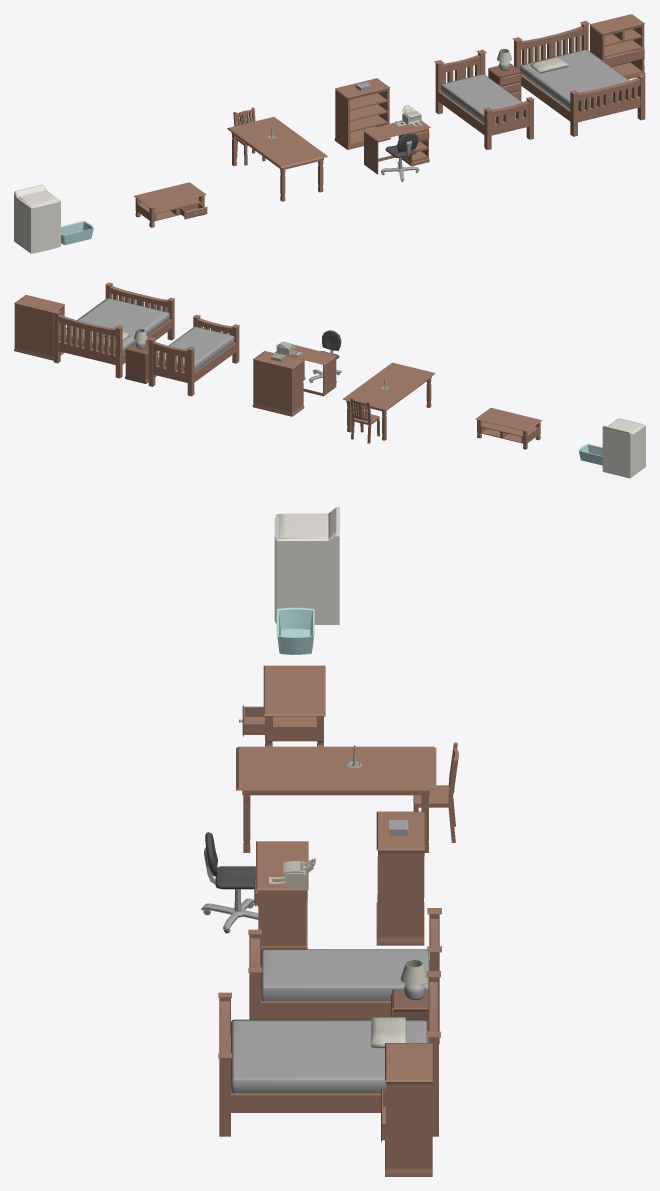
The model's file is bedroom_Cupboard.fbx.
3 views of the same model, one above another, from view 1: azimuth 30°, elevation 25°; view 2: azimuth 150°, elevation 25°; view 3: azimuth 270°, elevation 25° (orthographic). The views are drawn at different scales.
Parts seen in each view (by area): view 1: CZ_QueenBed01, CZ_SingleBed01, CZ_DiningTable01, CZ_QueenMatress01, CZ_Bookshelf01, CZ_WashingMachineBase01, CZ_ChestofDrawers01, CZ_SignleMatress01, CZ_CoffeeTable01, CZ_DeskUnit01, CZ_OfficeChair01, CZ_ClothesBasket01 (+5 smaller); view 2: CZ_QueenBed01, CZ_SingleBed01, CZ_Bookshelf01, CZ_DiningTable01, CZ_ChestofDrawers01, CZ_QueenMatress01, CZ_WashingMachineBase01, CZ_CoffeeTable01, CZ_SignleMatress01, CZ_DeskUnit01, CZ_BSDrawers01, CZ_DiningChair01 (+3 smaller); view 3: CZ_QueenMatress01, CZ_DiningTable01, CZ_SignleMatress01, CZ_ChestofDrawers01, CZ_QueenBed01, CZ_Bookshelf01, CZ_WashingMachineBase01, CZ_DeskUnit01, CZ_CoffeeTable01, CZ_SingleBed01, CZ_OfficeChair01, CZ_ClothesBasket01 (+4 smaller).
Part boxes in pixels (<box>): CZ_QueenBed01: <box>512,21,645,136</box>; CZ_SingleBed01: <box>434,49,534,149</box>; CZ_DiningTable01: <box>227,117,327,201</box>; CZ_QueenMatress01: <box>520,49,637,109</box>; CZ_Bookshelf01: <box>334,78,390,149</box>; CZ_WashingMachineBase01: <box>14,184,60,253</box>; CZ_ChestofDrawers01: <box>589,14,645,79</box>; CZ_SignleMatress01: <box>441,74,523,123</box>; CZ_CoffeeTable01: <box>134,182,206,227</box>; CZ_DeskUnit01: <box>363,121,430,174</box>; CZ_OfficeChair01: <box>380,132,419,181</box>; CZ_ClothesBasket01: <box>61,221,93,245</box>; CZ_QueenBed01: <box>52,282,174,378</box>; CZ_SingleBed01: <box>147,314,239,396</box>; CZ_Bookshelf01: <box>252,351,304,416</box>; CZ_DiningTable01: <box>342,362,435,440</box>; CZ_ChestofDrawers01: <box>14,295,65,360</box>; CZ_QueenMatress01: <box>60,298,169,353</box>; CZ_WashingMachineBase01: <box>602,418,645,478</box>; CZ_CoffeeTable01: <box>475,408,542,449</box>; CZ_SignleMatress01: <box>158,326,234,371</box>; CZ_DeskUnit01: <box>275,345,337,396</box>; CZ_BSDrawers01: <box>125,342,156,383</box>; CZ_DiningChair01: <box>350,397,380,443</box>; CZ_QueenMatress01: <box>231,1019,427,1093</box>; CZ_DiningTable01: <box>236,746,436,852</box>; CZ_SignleMatress01: <box>261,949,428,1001</box>; CZ_ChestofDrawers01: <box>385,1043,432,1176</box>; CZ_QueenBed01: <box>218,971,440,1136</box>; CZ_Bookshelf01: <box>376,811,424,945</box>; CZ_WashingMachineBase01: <box>274,507,339,624</box>; CZ_DeskUnit01: <box>256,841,308,950</box>; CZ_CoffeeTable01: <box>263,665,325,746</box>; CZ_SingleBed01: <box>248,908,441,1044</box>; CZ_OfficeChair01: <box>201,832,258,933</box>; CZ_ClothesBasket01: <box>276,607,314,654</box>.
Size of the model in its own units: 14.35 by 1.19 by 2.7.
